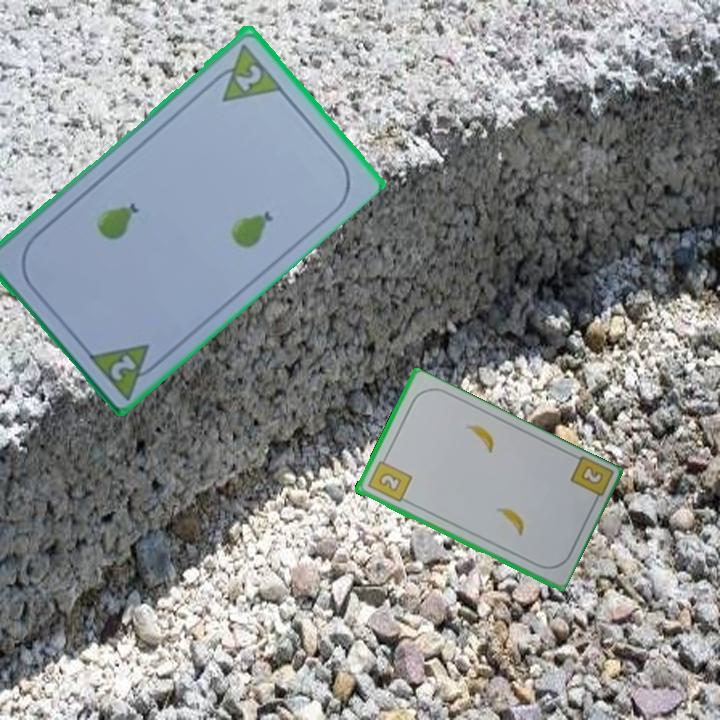2b: (364, 453, 414, 505), (577, 462, 606, 488)
2p: (205, 38, 284, 105), (106, 350, 139, 383)
